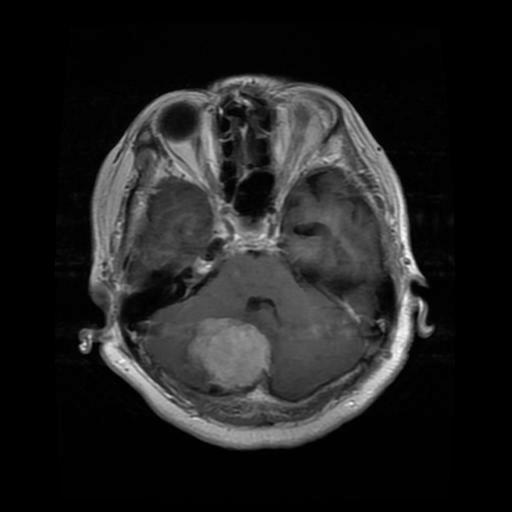Tumour-Meningioma: (183, 302, 288, 414)
